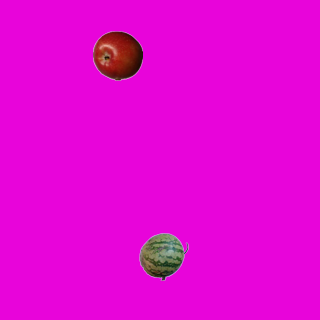Apple Braeburn: (92, 30, 142, 80)
Watermelon: (138, 231, 188, 281)
